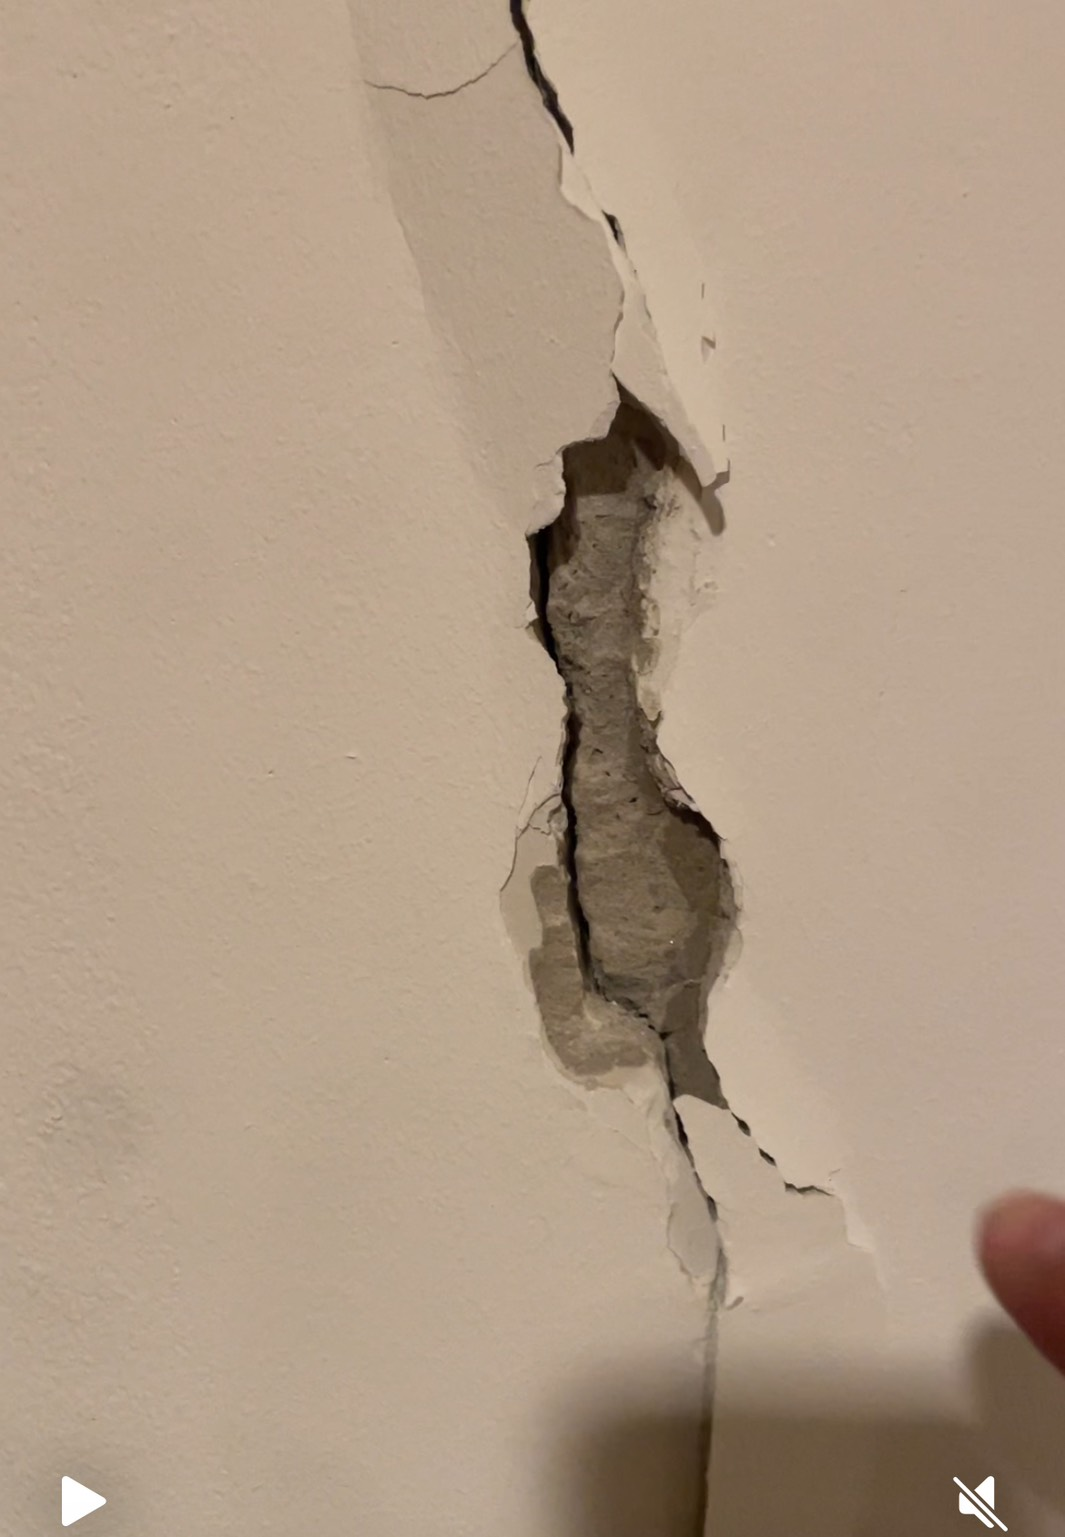Medium: (392, 50, 820, 1146)
